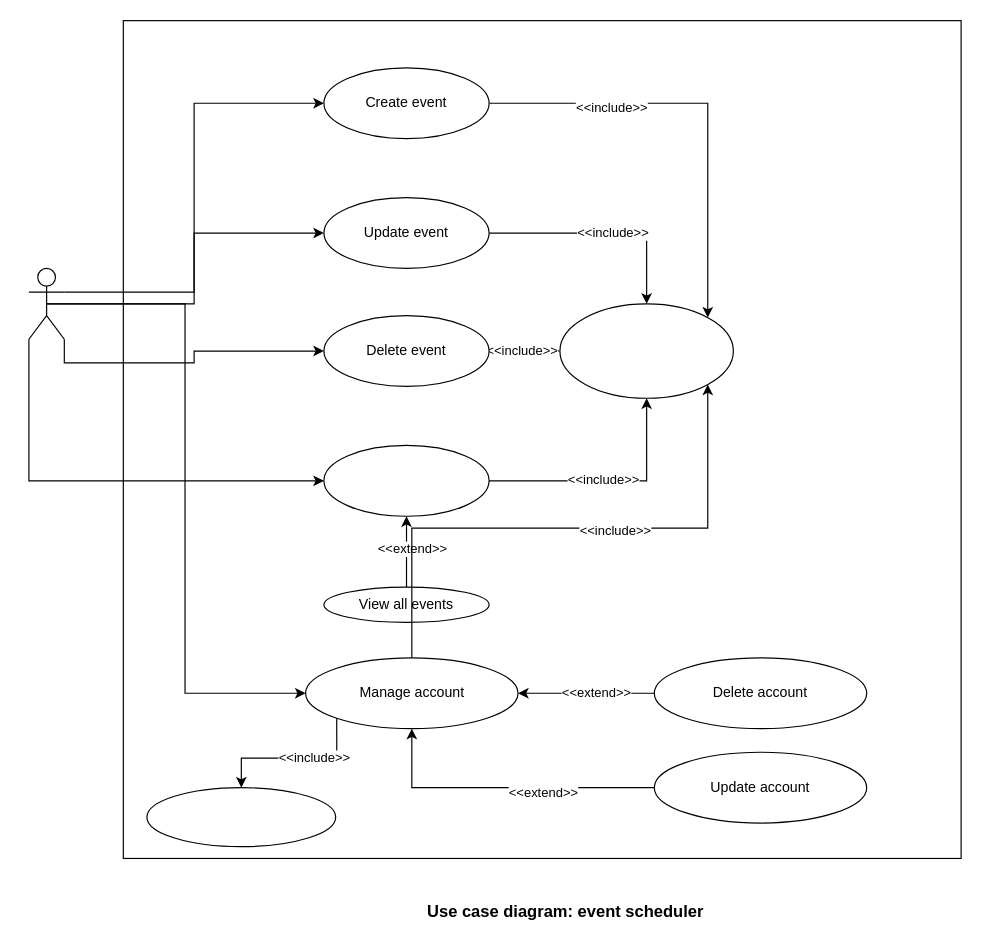
Some shapes in this 982 by 950 pixel diagram are drawn without their labels. Here are the shapes that lost their labels. From the top down, the centre of each, then its label:
the point at 46,303: User
the point at 646,350: Authenticate
the point at 406,480: View event
the point at 241,816: Register
